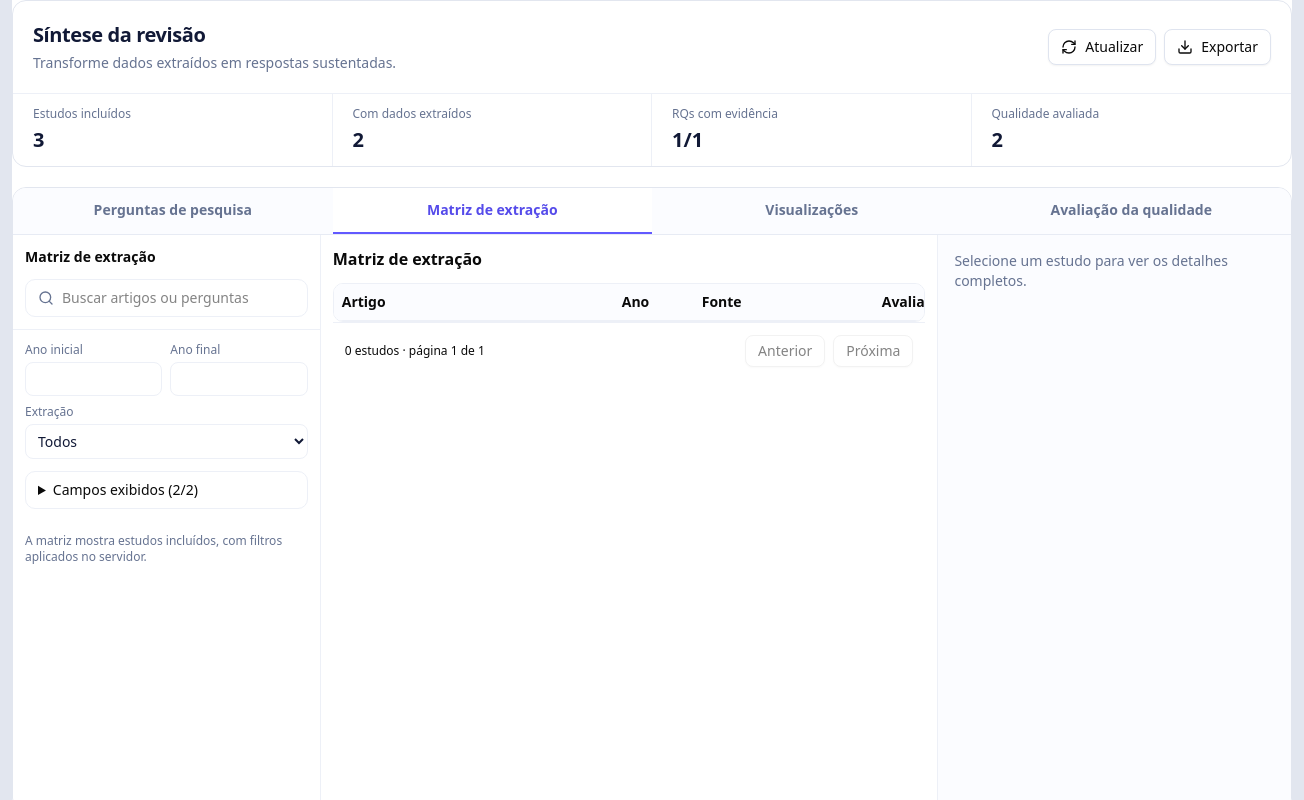
it: SynthesisWorkspacePanel › allows extraction fields to be hidden from the matrix without changing the article index
Click the heading "Campos exibidos (2/2)" at (125, 490), box [53,480,198,499]
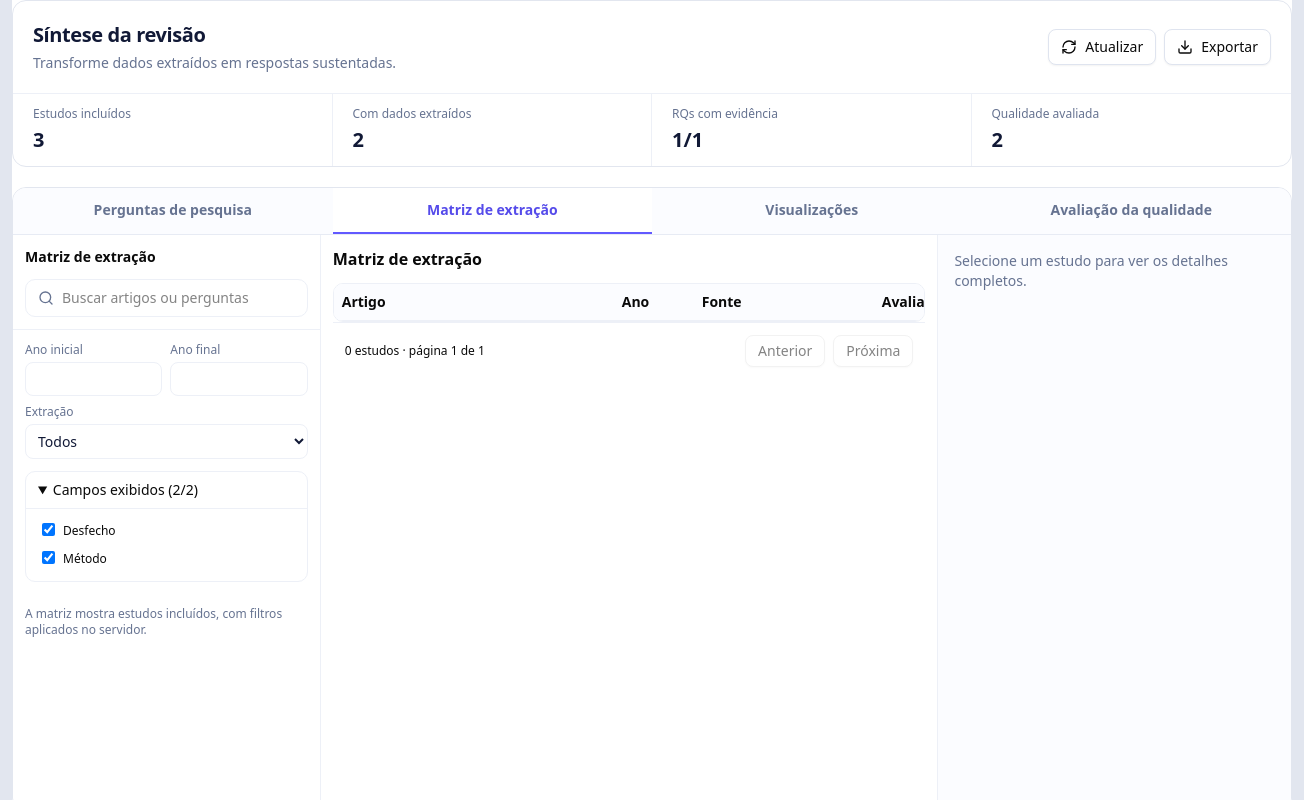
Expected: the text "Método" is shown, [63,551,107,567]
Click the checkbox labelled "Método" at (48, 558), box [42,551,55,564]
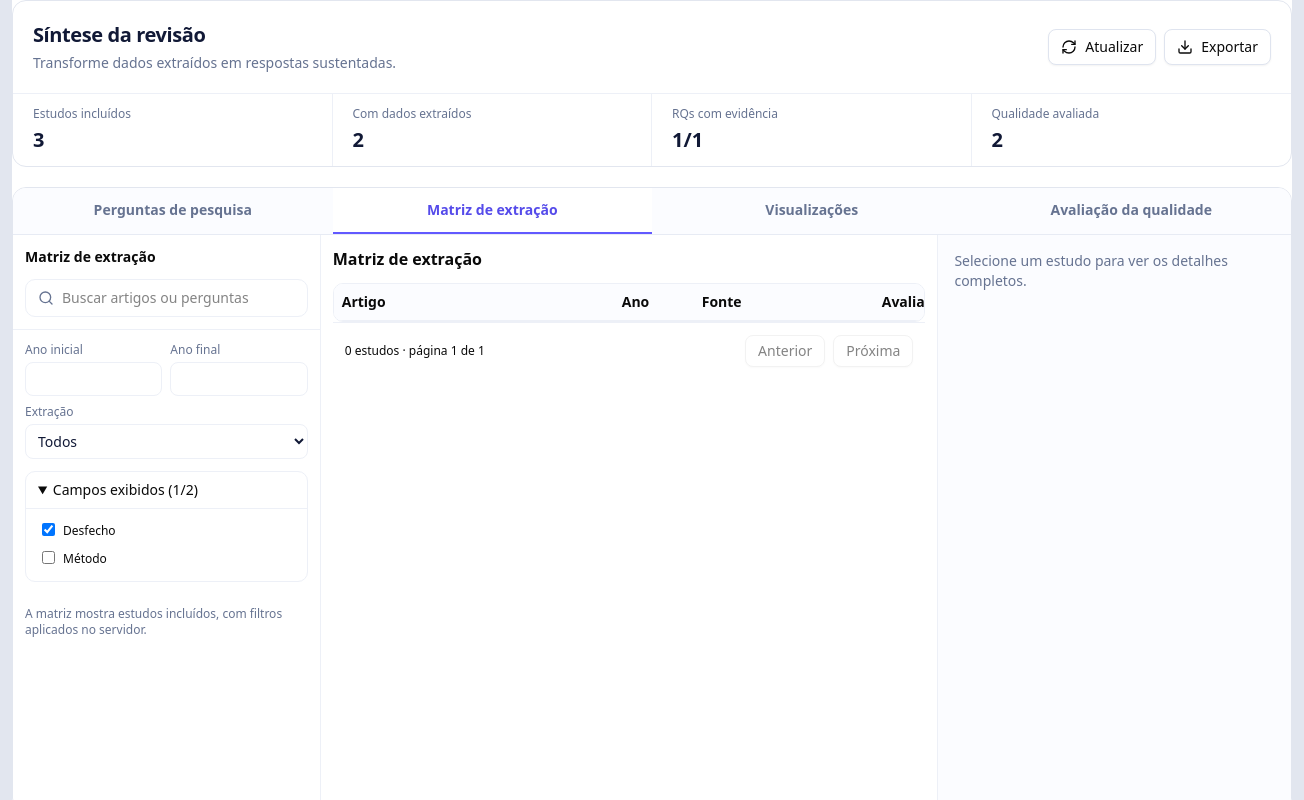
Expected: the heading "Campos exibidos (1/2)" is shown, [53,480,198,499]
